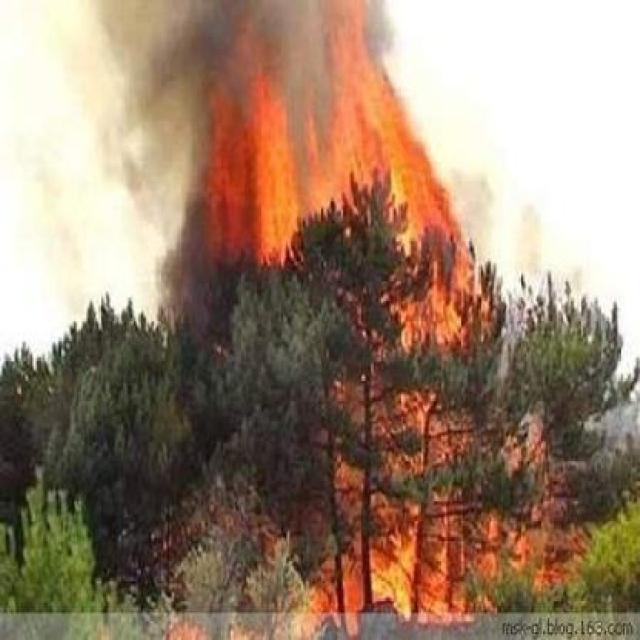Fire: (193, 6, 591, 640)
